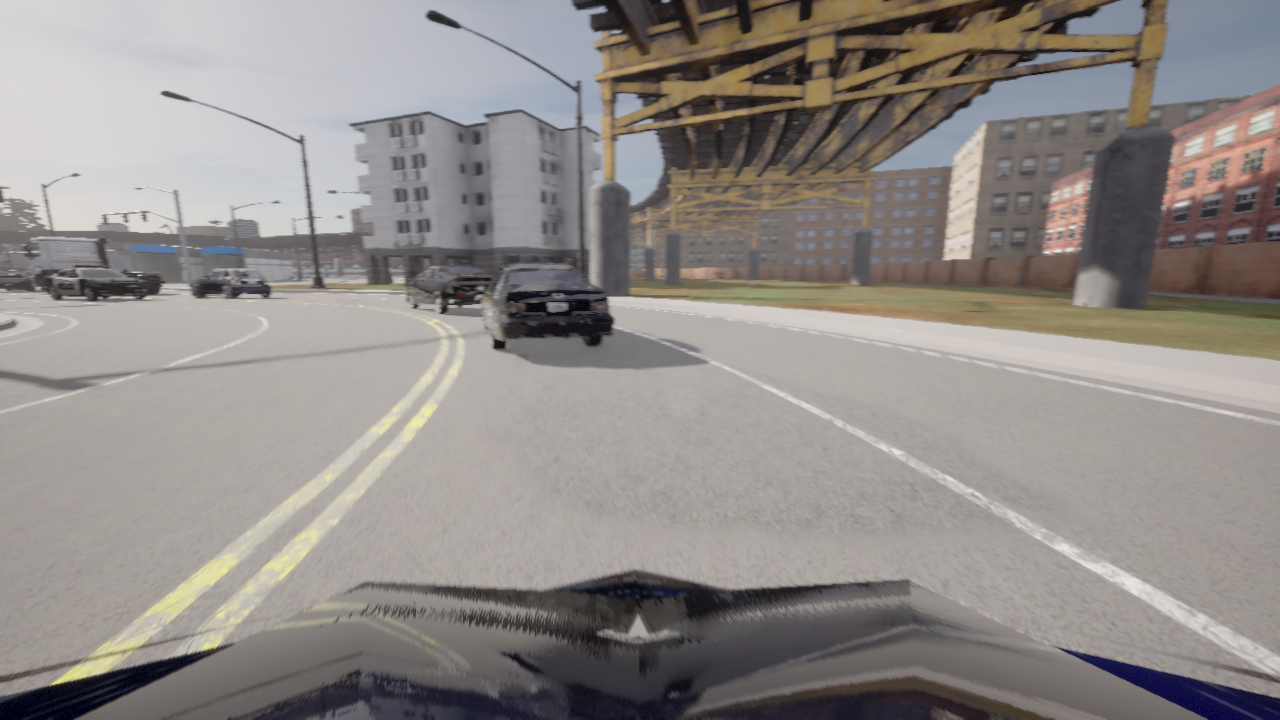cyclist: (0, 569, 1279, 719), (477, 263, 614, 349), (23, 237, 165, 294), (406, 264, 493, 314), (45, 265, 145, 300), (191, 268, 272, 298), (0, 270, 44, 291)
